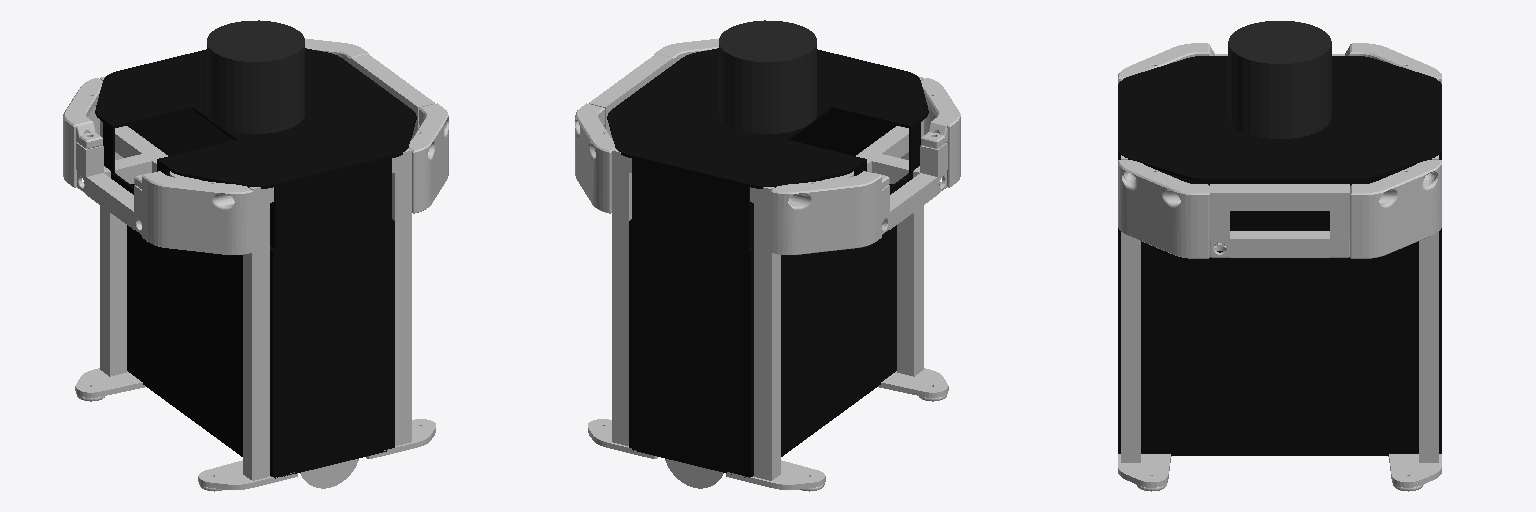
The robot description file, URDF, robot "ros381":
<?xml version="1.0"?>
<robot name="ros381">

  <!-- MATERIALS -->
  <material name="steel">
    <color rgba="0.8 0.8 0.8 1.0"/>
  </material>

  <material name="orange">
    <color rgba="0.8 0.2 0.0 1.0"/>
  </material>

  <material name="black">
    <color rgba="0.2 0.2 0.2 1.0"/>
  </material>

  <material name="black_plexi">
    <color rgba="0.1 0.1 0.1 1.0"/>
  </material>
  
  <material name="blue">
    <color rgba="0.1 0.1 0.8 1.0"/>
  </material>

  <material name="yellow">
    <color rgba="0.8 0.7 0.1 1.0"/>
  </material>


  <link name="base_link">
    <visual>
      <geometry>
		<mesh filename="package://ros381_description/meshes/base.stl"/>
      </geometry>
      <origin xyz="0 0 0" rpy="0 0 1.570796327"/>
      <material name="steel"/>
    </visual>
    <inertial>
      <origin xyz="0 0 0.1675"/>
      <mass value="2.0"/>
      <inertia ixx="0.044" iyy="0.02" izz="0.03" ixy="0.0" iyz="0.0" ixz="0.0"/>
    </inertial>
    <collision>
      <origin xyz="0 0 0.000" rpy="0 0 0"/>
      <geometry>
		    <!-- <cylinder radius="0.14" length="0.004"/> -->
        <box size="0.125 0.21 0.004"/>
      </geometry>
    </collision>
  </link>

  <link name="wheel_right">
    <visual>
      <geometry>
        <cylinder radius="0.035" length="0.039"/>
      </geometry>
      <origin rpy="0 0 0"/>
      <material name="orange"/>
    </visual>
    <inertial>
      <origin xyz="0 0 0" rpy="0 0 0"/>
      <mass value="0.1"/>
      <inertia 
        ixx="5e-5" iyy="5e-5" izz="8e-5" 
        ixy="0.0" iyz="0.0" ixz="0.0"/>
    </inertial>
    <collision>
      <origin xyz="0 0 0" rpy="0 0 0"/>
      <geometry>
        <cylinder radius="0.035" length="0.039"/>
      </geometry>
    </collision>
  </link>
  <joint name="wheel_right" type="continuous">
    <parent link="base_link"/>
    <child link="wheel_right"/>
    <axis xyz="0.0 0.0 -1.0"/>
    <origin xyz="0.0 -0.07725 0.032" rpy="1.570796327 0 0"/>
  </joint> 
  
  <link name="wheel_left">
    <visual>
      <geometry>
        <cylinder radius="0.035" length="0.039"/>
      </geometry>
      <origin rpy="0 0 0"/>
      <material name="orange"/>
    </visual>
    <inertial>
      <origin xyz="0 0 0" rpy="0 0 0"/>
      <mass value="0.1"/>
      <inertia 
        ixx="5e-5" iyy="5e-5" izz="8e-5" 
        ixy="0.0" iyz="0.0" ixz="0.0"/>
    </inertial>
    <collision>
      <origin xyz="0 0 0" rpy="0 0 0"/>
      <geometry>
        <cylinder radius="0.035" length="0.039"/>
      </geometry>
    </collision>
  </link>
  <joint name="wheel_left" type="continuous">
    <parent link="base_link"/>
    <child link="wheel_left"/>
    <axis xyz="0.0 0.0 -1.0"/>
    <origin xyz="0.0 0.07725 0.032" rpy="1.570796327 0 0"/>
  </joint>

  <link name="right_odometry_block">
    <visual>
      <geometry>
        <box size="0.09 0.015 0.05"/>
      </geometry>
      <origin xyz="0 0 0.025"/>
      <material name="steel"/>
    </visual>
    <collision>
      <origin xyz="0 0 0.025"/>
      <geometry>
        <box size="0.09 0.015 0.05"/>
      </geometry>
    </collision>
    <inertial>
      <origin xyz="0 0 0.025" rpy="0 0 0"/>
      <mass value="0.0622"/>
      <inertia 
        ixx="1.41e-5" iyy="5.49e-5" izz="4.31e-5" 
        ixy="0.0" iyz="0.0" ixz="0.0"/>
    </inertial>
  </link>
  <joint name="right_odometry_slider" type="prismatic">
    <parent link="base_link"/>
    <child link="right_odometry_block"/>
    <axis xyz="0 0 1"/>
    <limit lower="0.0" upper="0.03" effort="0" velocity="100"/>
    <dynamics damping="0.1"/>
    <origin xyz="0 -0.134 0.015"/>
  </joint>

  <link name="left_odometry_block">
    <visual>
      <geometry>
        <box size="0.09 0.015 0.05"/>
      </geometry>
      <origin xyz="0 0 0.025"/>
      <material name="steel"/>
    </visual>
    <collision>
      <origin xyz="0 0 0.025"/>
      <geometry>
        <box size="0.09 0.015 0.05"/>
      </geometry>
    </collision>
    <inertial>
      <origin xyz="0 0 0.025" rpy="0 0 0"/>
      <mass value="0.0622"/>
      <inertia 
        ixx="1.41e-5" iyy="5.49e-5" izz="4.31e-5" 
        ixy="0.0" iyz="0.0" ixz="0.0"/>
    </inertial>
  </link>
  <joint name="left_odometry_slider" type="prismatic">
    <parent link="base_link"/>
    <child link="left_odometry_block"/>
    <axis xyz="0 0 1"/>
    <limit lower="0.0" upper="0.03" effort="0" velocity="100"/>
    <dynamics damping="0.1"/>
    <origin xyz="0 0.134 0.015"/>
  </joint>

  <link name="odometry_wheel_right">
    <visual>
      <geometry>
        <cylinder radius="0.036" length="0.002"/>
      </geometry>
      <origin rpy="0 0 0"/>
      <material name="steel"/>
    </visual>
    <inertial>
      <origin xyz="0 0 0" rpy="0 0 0"/>
      <mass value="0.055"/>
      <inertia 
        ixx="1.79e-5" iyy="1.79e-5" izz="3.56e-5" 
        ixy="0.0" iyz="0.0" ixz="0.0"/>
    </inertial>
    <collision>
      <origin xyz="0 0 0" rpy="0 0 0"/>
      <geometry>
        <cylinder radius="0.036" length="0.002"/>
      </geometry>
    </collision>
  </link>
  <joint name="odometry_wheel_right" type="continuous">
    <parent link="right_odometry_block"/>
    <child link="odometry_wheel_right"/>
    <axis xyz="0.0 0.0 -1.0"/>
    <origin xyz="0 -0.0145 0" rpy="1.570796327 0 0"/>
  </joint> 

  <link name="odometry_wheel_left">
    <visual>
      <geometry>
        <cylinder radius="0.036" length="0.002"/>
      </geometry>
      <origin rpy="0 0 0"/>
      <material name="steel"/>
    </visual>
    <inertial>
      <origin xyz="0 0 0" rpy="0 0 0"/>
      <mass value="0.055"/>
      <inertia 
        ixx="1.79e-5" iyy="1.79e-5" izz="3.56e-5" 
        ixy="0.0" iyz="0.0" ixz="0.0"/>
    </inertial>
    <collision>
      <origin xyz="0 0 0" rpy="0 0 0"/>
      <geometry>
        <cylinder radius="0.036" length="0.002"/>
      </geometry>
    </collision>
  </link>
  <joint name="odometry_wheel_left" type="continuous">
    <parent link="left_odometry_block"/>
    <child link="odometry_wheel_left"/>
    <axis xyz="0.0 0.0 -1.0"/>
    <origin xyz="0 0.0145 0" rpy="1.570796327 0 0"/>
  </joint>

  <link name="armor">
    <visual>
      <geometry>
		<mesh filename="package://ros381_description/meshes/armor.stl"/>
      </geometry>
      <origin xyz="0 0 0" rpy="0 0 0"/>
      <material name="black_plexi"/>
    </visual>
    <inertial>
      <origin xyz="0 0 0.1675"/>
      <mass value="2.0"/>
      <inertia ixx="0.044" iyy="0.02" izz="0.03" ixy="0.0" iyz="0.0" ixz="0.0"/>
    </inertial>
    <collision>
      <origin xyz="0 0 0" rpy="0 0 0"/>
      <geometry>
        <mesh filename="package://ros381_description/meshes/base_collision.stl"/>
      </geometry>
    </collision>
  </link>
  <joint name="armor_joint" type="fixed">
	<parent link="base_link"/>
	<child link="armor"/>
    <origin xyz="0 0 0" rpy="0 0 1.570796327"/>
  </joint>

  <link name="lidar">
	<visual>
	  <geometry>
		<cylinder radius="0.05" length="0.08"/>
	  </geometry>
      <origin xyz="0 0 0" rpy="0 0 0"/>
	  <material name="black"/>
	</visual>
    <inertial>
      <origin xyz="0 0 0"/>
      <mass value="0.1"/>
	  <inertia ixx="0.00012" iyy="0.00012" izz="0.0001" ixy="0.0" iyz="0.0" ixz="0.0"/>
    </inertial>
    <collision>
      <origin xyz="0 0 0" rpy="0 0 0"/>
      <geometry>
		<cylinder radius="0.05" length="0.08"/>
      </geometry>
    </collision>
  </link>
  <joint name="lidar_joint" type="fixed">
	<parent link="base_link"/>
	<child link="lidar"/>
    <origin xyz="0 0 0.376" rpy="0 0 0"/>
  </joint>

  <webots>
	<device reference="wheel_right" type="RotationalMotor">
      <maxTorque>10</maxTorque>
      <maxVelocity>60</maxVelocity>
      <acceleration>600</acceleration>
    </device>
    <device reference="wheel_left" type="RotationalMotor">
      <maxTorque>10</maxTorque>
      <maxVelocity>60</maxVelocity>
      <acceleration>600</acceleration>
    </device>
    <device reference="right_odometry_slider" type="LinearMotor">
      <maxForce>1</maxForce>
      <maxVelocity>100</maxVelocity>
      <maxPosition>0.03</maxPosition>
    </device>
    <device reference="left_odometry_slider" type="LinearMotor">
      <maxForce>1</maxForce>
      <maxVelocity>100</maxVelocity>
      <maxPosition>0.03</maxPosition>
    </device>
    <device reference="odometry_wheel_right" type="RotationalMotor">
      <maxTorque>0</maxTorque>
    </device>
    <device reference="odometry_wheel_left" type="RotationalMotor">
      <maxTorque>0</maxTorque>
    </device>
    <plugin type="ros381_webots.motor_driver.MotorDriver"/>
    <plugin type="ros381_webots.encoder_reader.EncoderReader"/>
    <plugin type="ros381_webots.lidar_reader.LidarReader"/>
    <!-- <plugin type="ros381_webots.odometry.OdometryW"/> -->
  </webots>
</robot>

--- What the picture shows (computed from the rendered views, not written in the file) ---
Views: 3 orthographic renders of the robot side by side, from view 1: azimuth 30°, elevation 25°; view 2: azimuth 150°, elevation 25°; view 3: azimuth 270°, elevation 25°.
Model ros381 with 9 links and 8 joints (4 continuous, 2 prismatic, 2 fixed), rooted at base_link, posed every joint at zero.
Visible links, largest first — view 1: armor, base_link, lidar, odometry_wheel_right; view 2: armor, base_link, lidar, odometry_wheel_left; view 3: armor, base_link, lidar.
Link boxes in pixels (left/top/right/bottom): armor: left=95, top=48, right=416, bottom=478; base_link: left=63, top=39, right=448, bottom=491; lidar: left=207, top=20, right=304, bottom=133; odometry_wheel_right: left=300, top=459, right=358, bottom=488; armor: left=607, top=48, right=928, bottom=477; base_link: left=575, top=39, right=960, bottom=491; lidar: left=719, top=20, right=816, bottom=133; odometry_wheel_left: left=665, top=459, right=723, bottom=488; armor: left=1118, top=56, right=1441, bottom=455; base_link: left=1118, top=43, right=1441, bottom=491; lidar: left=1228, top=21, right=1331, bottom=138.
Bounding box of the posed robot: 0.346 × 0.314 × 0.437 m (x, y, z).
2 mesh visuals loaded from 2 distinct referenced files (2 binary STL).
